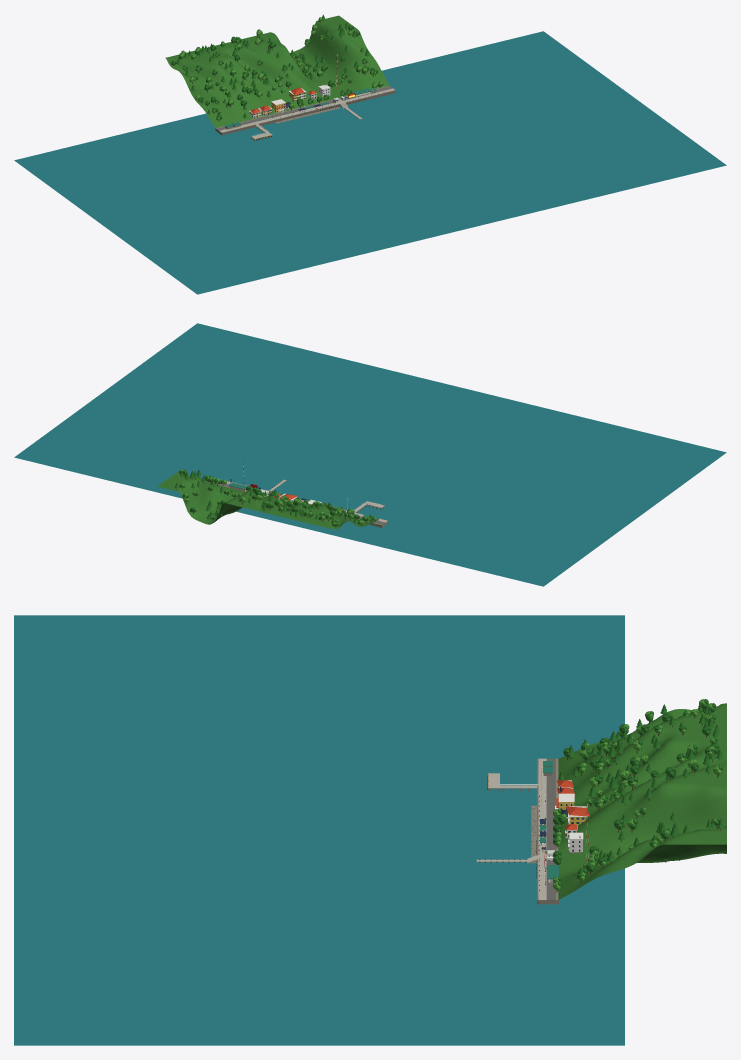
The model's file is cang_van_gia.glb.
3 renders of one model, top to bottom at view 1: azimuth 30°, elevation 25°; view 2: azimuth 150°, elevation 25°; view 3: azimuth 270°, elevation 25°, orthographic. The views are drawn at different scales.
Visible parts, largest first — view 1: Mat_bien, Doi_sau_ben, Cay_coi, Mat_ben; view 2: Mat_bien, Doi_sau_ben, Cay_coi; view 3: Mat_bien, Doi_sau_ben, Cay_coi, Mat_ben, Duong_ven_bo.
Boxes of the visible parts, x1,y1,x2,y2 form: Mat_bien: (14, 31, 726, 294); Doi_sau_ben: (165, 15, 389, 127); Cay_coi: (171, 14, 383, 121); Mat_ben: (219, 88, 394, 132); Mat_bien: (14, 323, 726, 586); Doi_sau_ben: (158, 472, 381, 529); Cay_coi: (175, 469, 376, 526); Mat_bien: (14, 615, 624, 1045); Doi_sau_ben: (558, 703, 726, 899); Cay_coi: (553, 699, 724, 892); Mat_ben: (538, 758, 546, 900); Duong_ven_bo: (546, 758, 555, 900).
Bounding box in the file's own units: 700 × 57.76 × 490.
